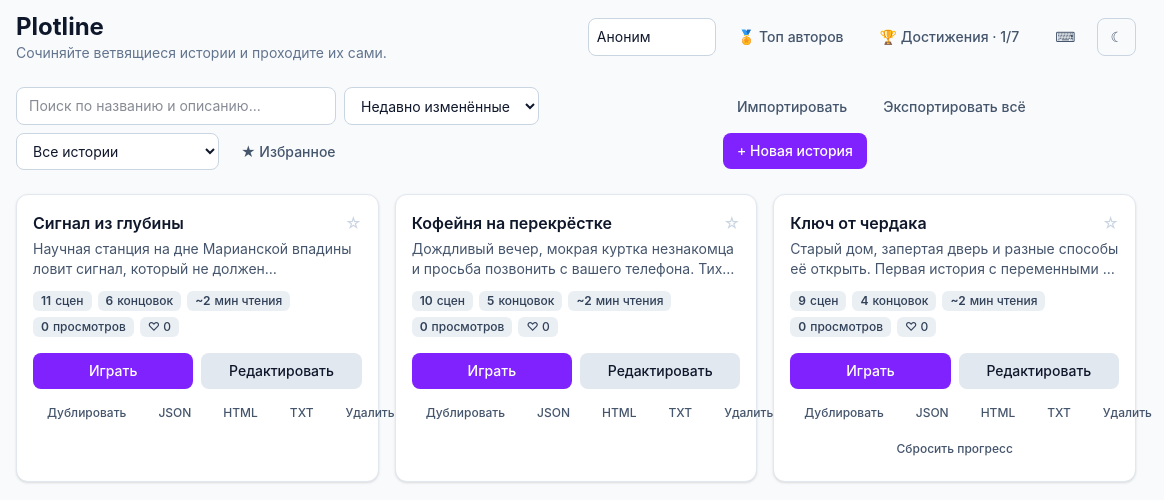
LibraryScreen › "Не начатые" hides stories that have a recorded play count
Select "Не начатые" in the dropdown named "Фильтр". click: (118, 152)
box: [16,133,219,170]
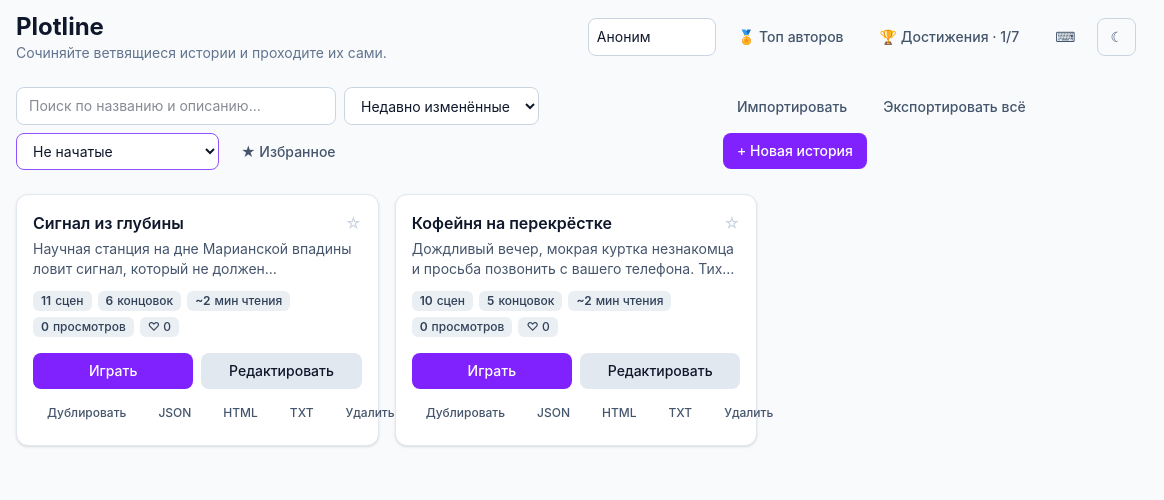
Check: the heading "Кофейня на перекрёстке" is shown, box [412,211,612,235]
Check: the heading "Ключ от чердака" is gone
